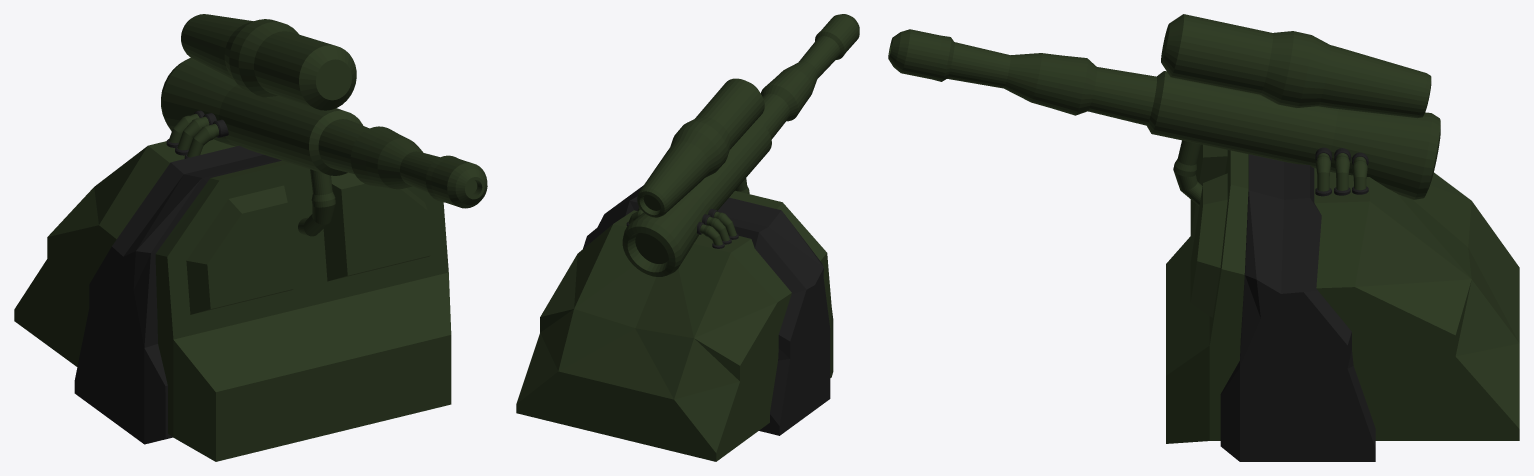
File: MashineGUN3 (2) 1.dae
3 views of the same model, side by side, from view 1: azimuth 30°, elevation 25°; view 2: azimuth 150°, elevation 25°; view 3: azimuth 270°, elevation 25° (orthographic). The views are drawn at different scales.
Visible parts, largest first — view 1: Cube, Cube.001, Cylinder, Cylinder.001, Cylinder.002, Cylinder.011, Cylinder.010, Cylinder.009; view 2: Cube, Cube.001, Cylinder, Cylinder.001, Cylinder.010, Cylinder.009, Cylinder.011; view 3: Cube, Cube.001, Cylinder, Cylinder.001, Cylinder.002, Cylinder.005, Cylinder.004.
Boxes of the visible parts, <box> form: Cube: <box>14,139,451,461</box>; Cube.001: <box>74,145,281,444</box>; Cylinder: <box>161,58,487,208</box>; Cylinder.001: <box>181,14,356,110</box>; Cylinder.002: <box>298,169,335,236</box>; Cylinder.011: <box>184,119,228,158</box>; Cylinder.010: <box>175,113,216,155</box>; Cylinder.009: <box>166,110,204,147</box>; Cube: <box>516,190,833,461</box>; Cube.001: <box>583,185,830,435</box>; Cylinder: <box>622,14,859,276</box>; Cylinder.001: <box>637,78,764,217</box>; Cylinder.010: <box>702,214,731,244</box>; Cylinder.009: <box>697,222,724,248</box>; Cylinder.011: <box>708,208,738,239</box>; Cube: <box>1166,144,1519,443</box>; Cube.001: <box>1220,154,1375,461</box>; Cylinder: <box>888,29,1440,199</box>; Cylinder.001: <box>1161,14,1431,118</box>; Cylinder.002: <box>1173,140,1202,206</box>; Cylinder.005: <box>1315,147,1331,196</box>; Cylinder.004: <box>1334,148,1350,195</box>.
Size of the model in its own units: 2.2 by 4.07 by 2.66.
